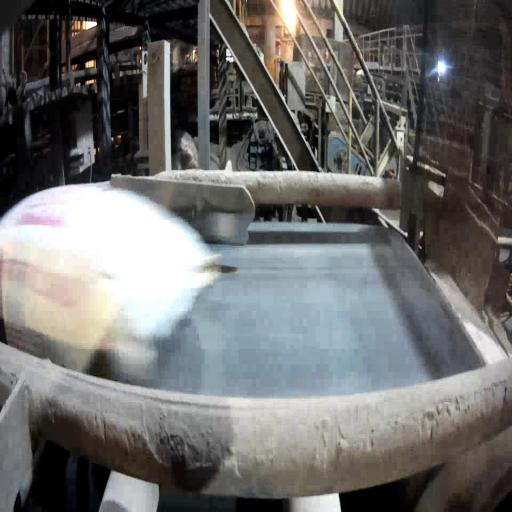c-belt-sack-count: (0, 183, 222, 382)
